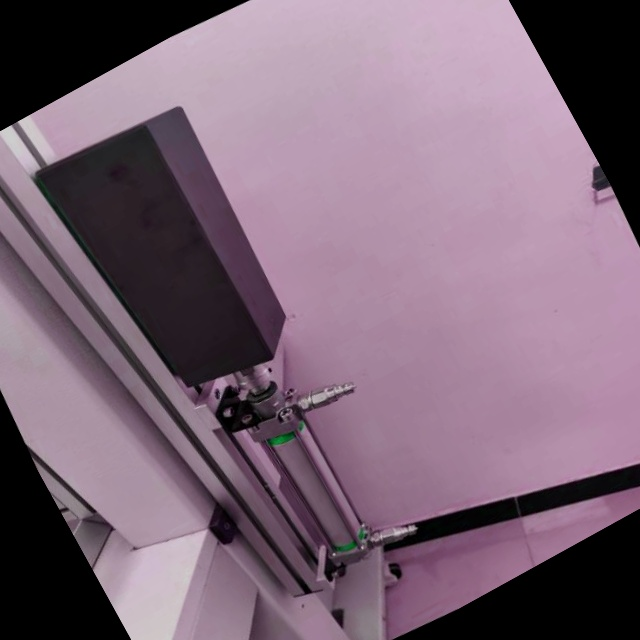load: (0, 66, 464, 640)
